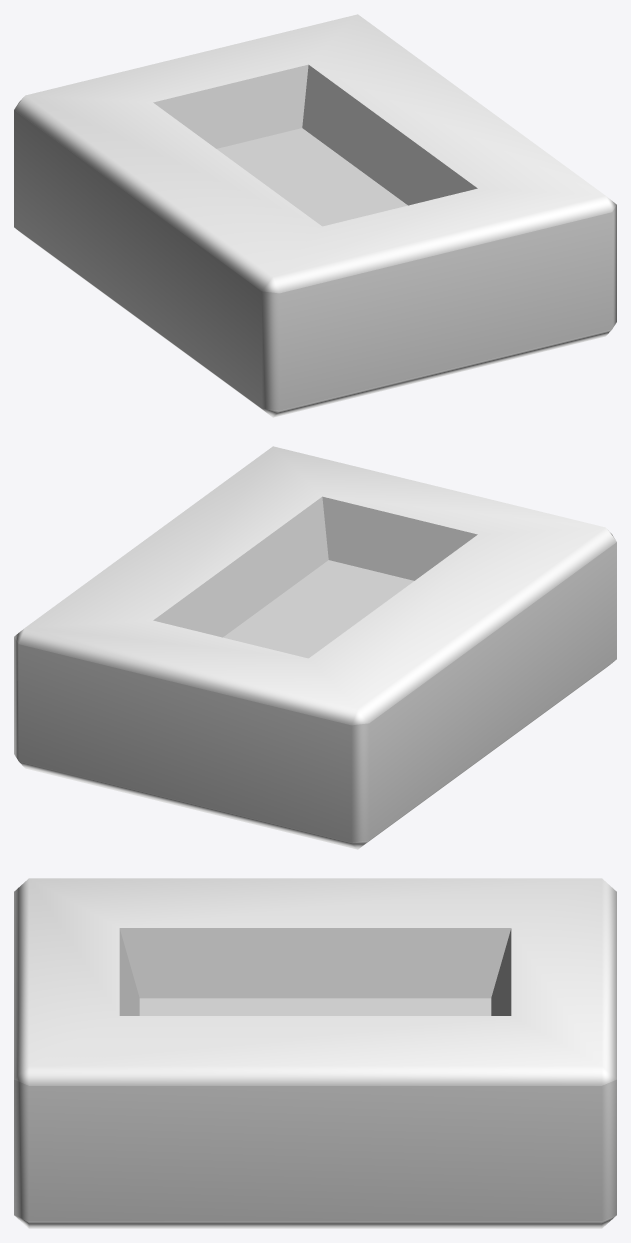
The model's file is Brick_Big.fbx.
3 renders of one model, top to bottom at view 1: azimuth 30°, elevation 25°; view 2: azimuth 150°, elevation 25°; view 3: azimuth 270°, elevation 25°, orthographic. The views are drawn at different scales.
Visible parts, largest first — view 1: Brick_Big; view 2: Brick_Big; view 3: Brick_Big.
Boxes of the visible parts, <box> form: Brick_Big: <box>14,14,616,417</box>; Brick_Big: <box>14,446,616,849</box>; Brick_Big: <box>14,878,616,1228</box>.
Size of the model in its own units: 1.18 by 0.4471 by 1.5.
